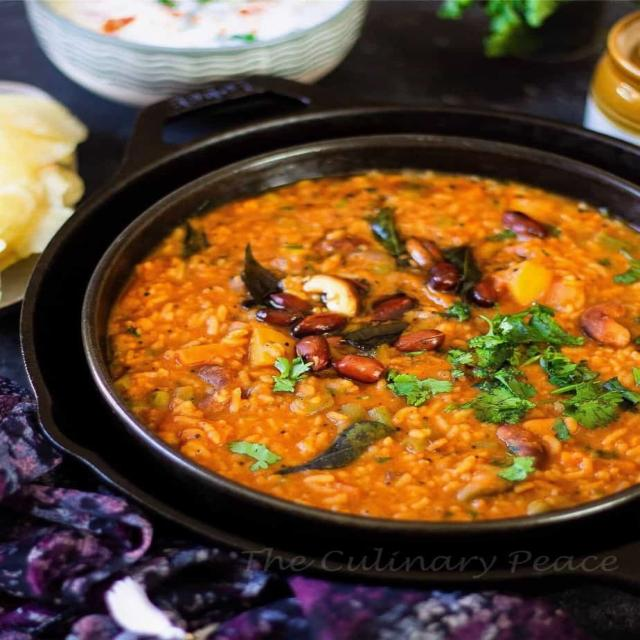bisibele bath: (11, 60, 640, 592)
